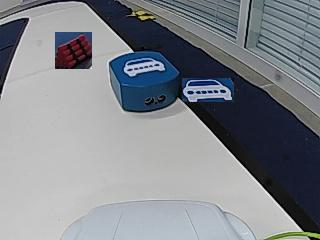safety: (123, 57, 166, 76)
